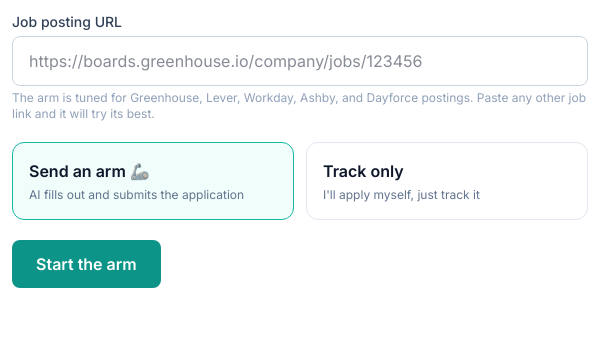
NewApplicationForm › shows an error when the request fails outright
Type "https://boards.greenhouse.io/x/jobs/1" into the field with placeholder "https://boards.greenhouse.io/company/jobs/123456" at (300, 61), box [12, 36, 588, 86]
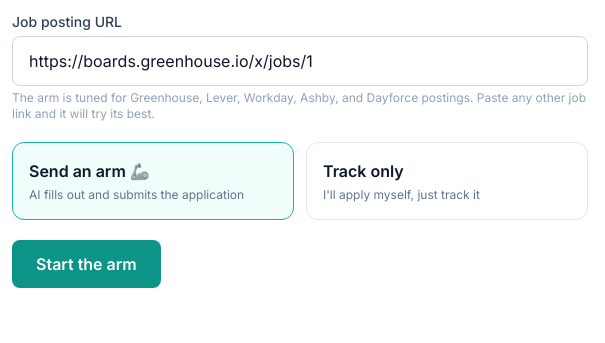
Click the button "Start the arm" at (86, 264), box [12, 240, 161, 288]
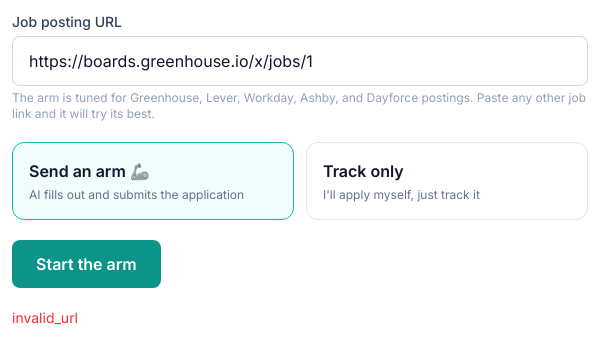
Expected: the text "invalid_url" is shown, [12, 309, 78, 326]
